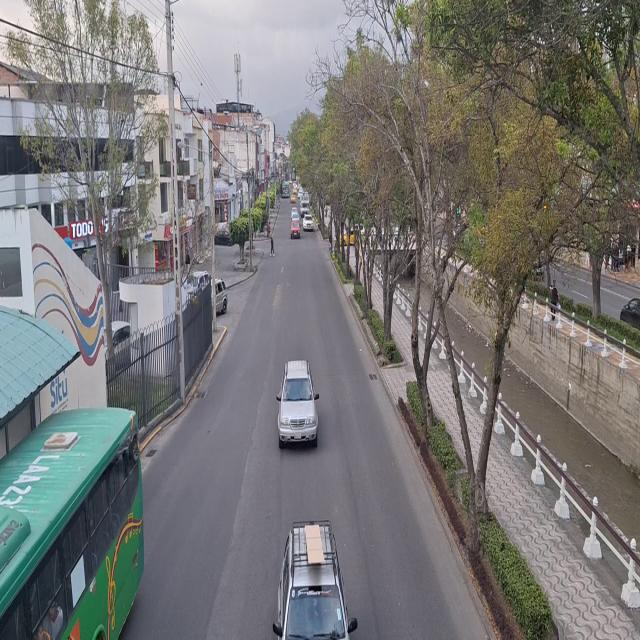BUS: (0, 419, 135, 640)
SUV: (274, 518, 352, 638), (278, 363, 316, 441), (304, 217, 313, 231)
